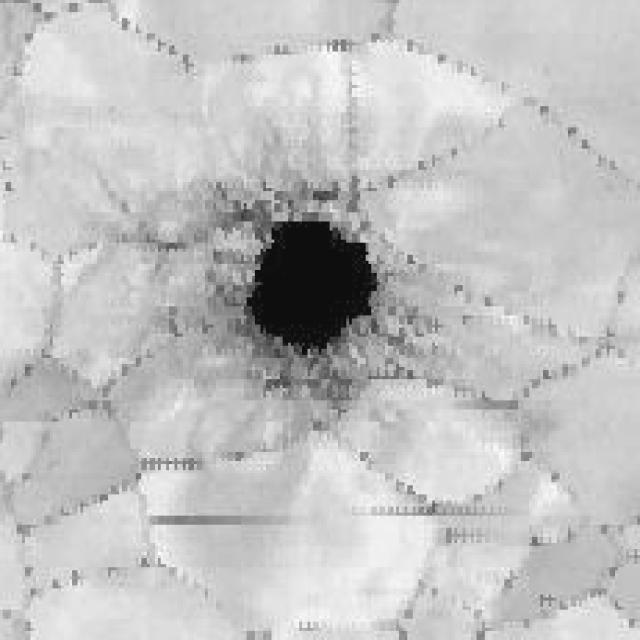good_void: (217, 197, 433, 410)
